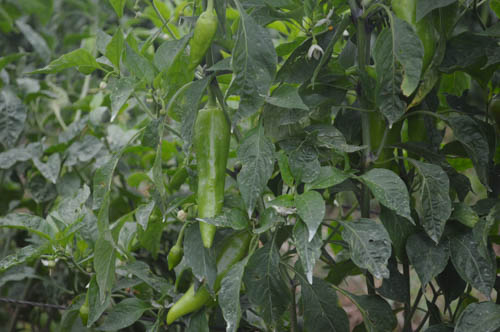ChiliPepper: (166, 236, 242, 321), (187, 105, 228, 248), (187, 20, 221, 70)
